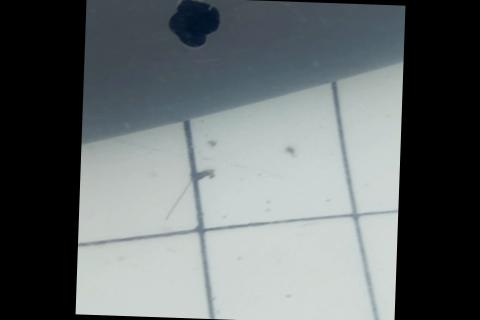kebocoran: (163, 0, 223, 50)
